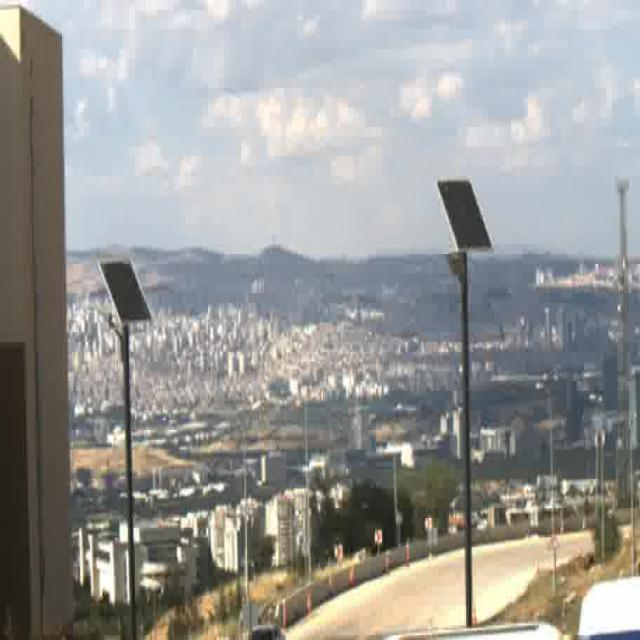Bus: (371, 575, 638, 640)
Car: (246, 621, 286, 640)
